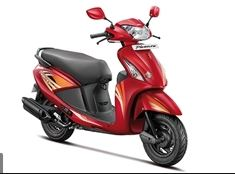bike: (21, 4, 187, 168)
